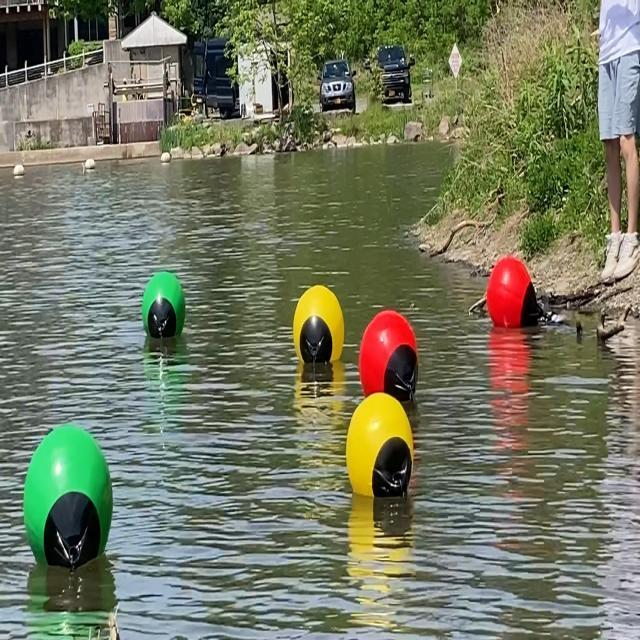buoy: (22, 421, 114, 577), (345, 390, 414, 500), (358, 310, 419, 403), (486, 250, 544, 332), (293, 280, 345, 370), (140, 268, 186, 342)
